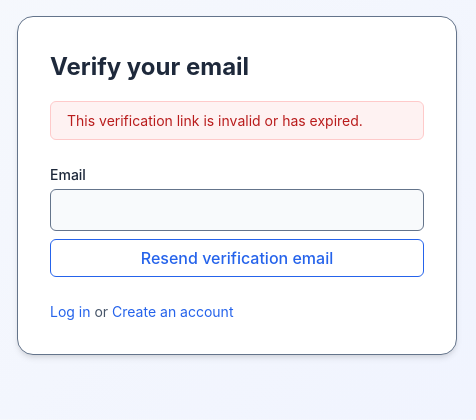
Test: VerifyEmailPage › resends the verification email for a typed address on an invalid link
Step 1. Click the button "Resend verification email" → [237, 258], box [50, 239, 424, 277]
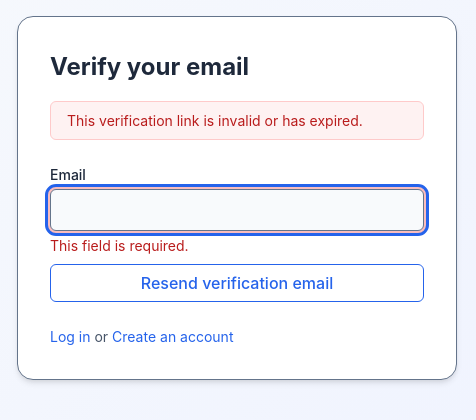
Step 2. Type "reader@example.com" into the field labelled "Email" → [237, 210], box [50, 189, 424, 231]
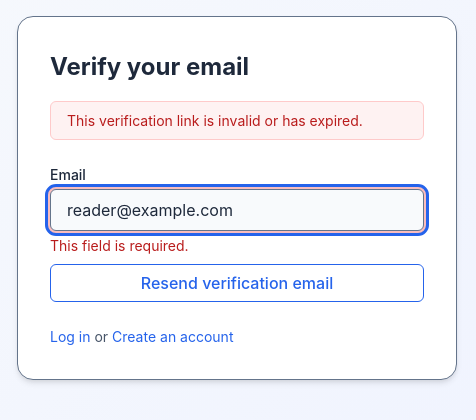
Step 3. Click the button "Resend verification email" → [237, 283], box [50, 264, 424, 302]
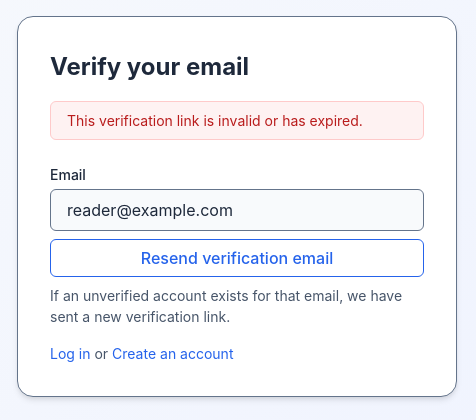
Result: the text "If an unverified account exists for that email, we have sent a new verification link." is shown at [50, 287, 402, 325]
